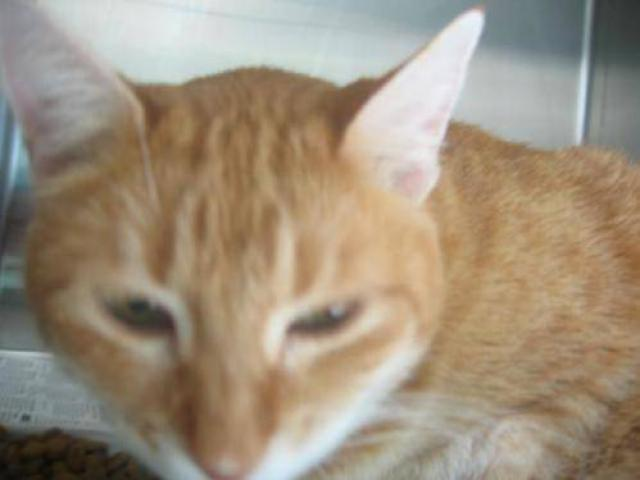cat: (8, 1, 633, 480)
